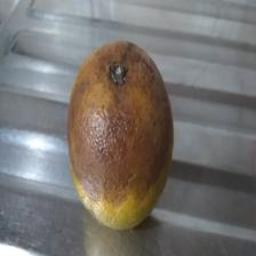Orange Rotten: (49, 37, 218, 256)
